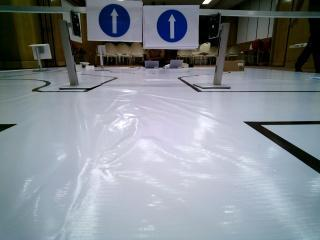straight: (143, 6, 195, 48), (88, 1, 141, 41)
